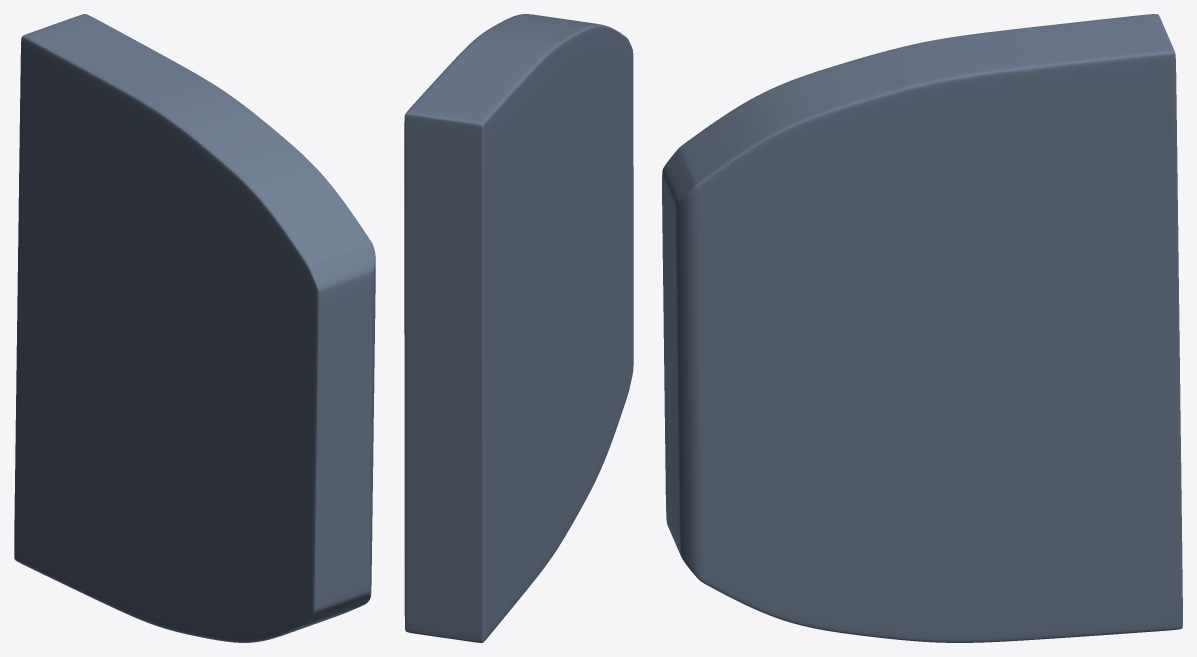
3 renders of one model, left to right at view 1: azimuth 30°, elevation 25°; view 2: azimuth 150°, elevation 25°; view 3: azimuth 270°, elevation 25°, orthographic. The views are drawn at different scales.
Parts seen in each view (by area): view 1: Cube.034; view 2: Cube.034; view 3: Cube.034.
Boxes of the visible parts, bbox=[...] form: Cube.034: bbox=[14, 14, 375, 642]; Cube.034: bbox=[404, 14, 633, 642]; Cube.034: bbox=[662, 14, 1182, 642].
Size of the model in its own units: 0.00616 by 0.0213 by 0.0173.
